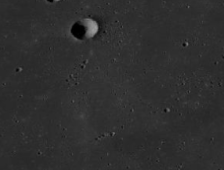crater: (38, 5, 156, 106)
